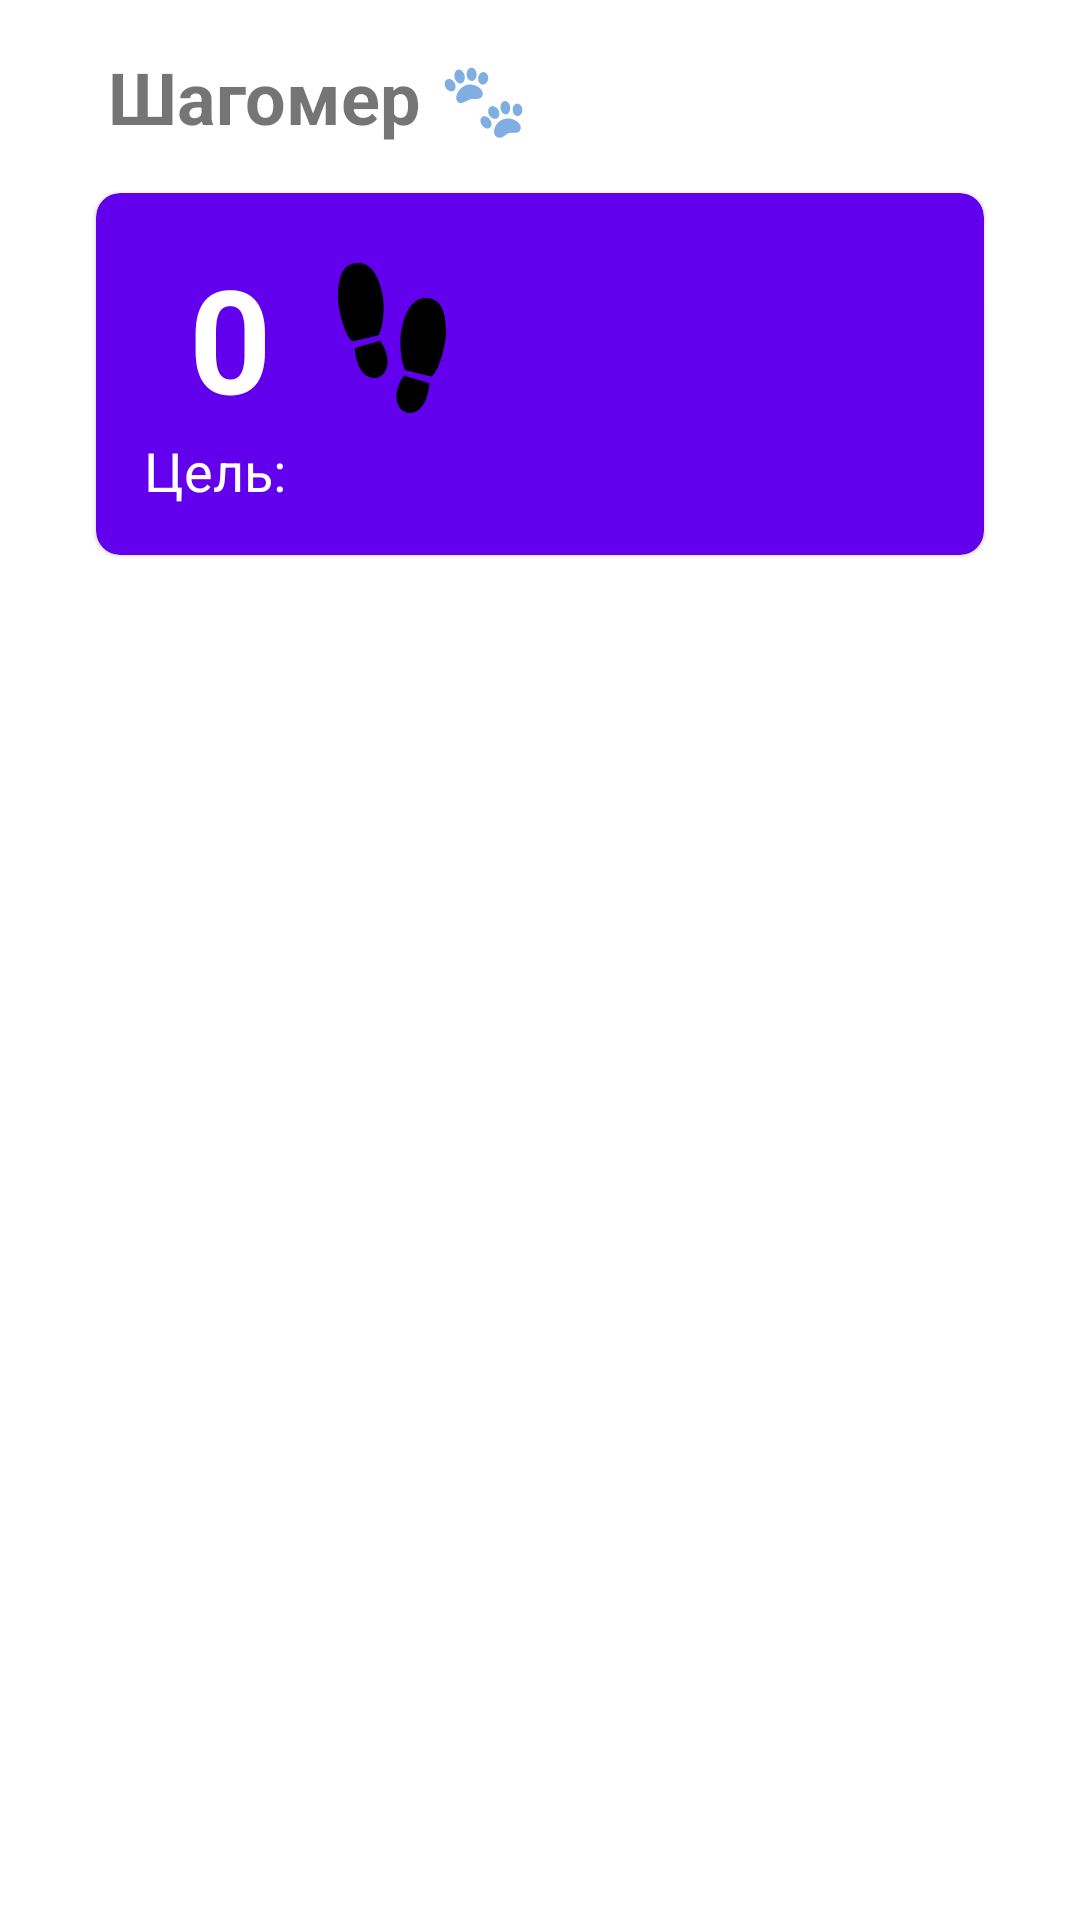

Named icons in this screenshot (1080w x 1920h) and their centers, (x,y):
step: (392,338)
